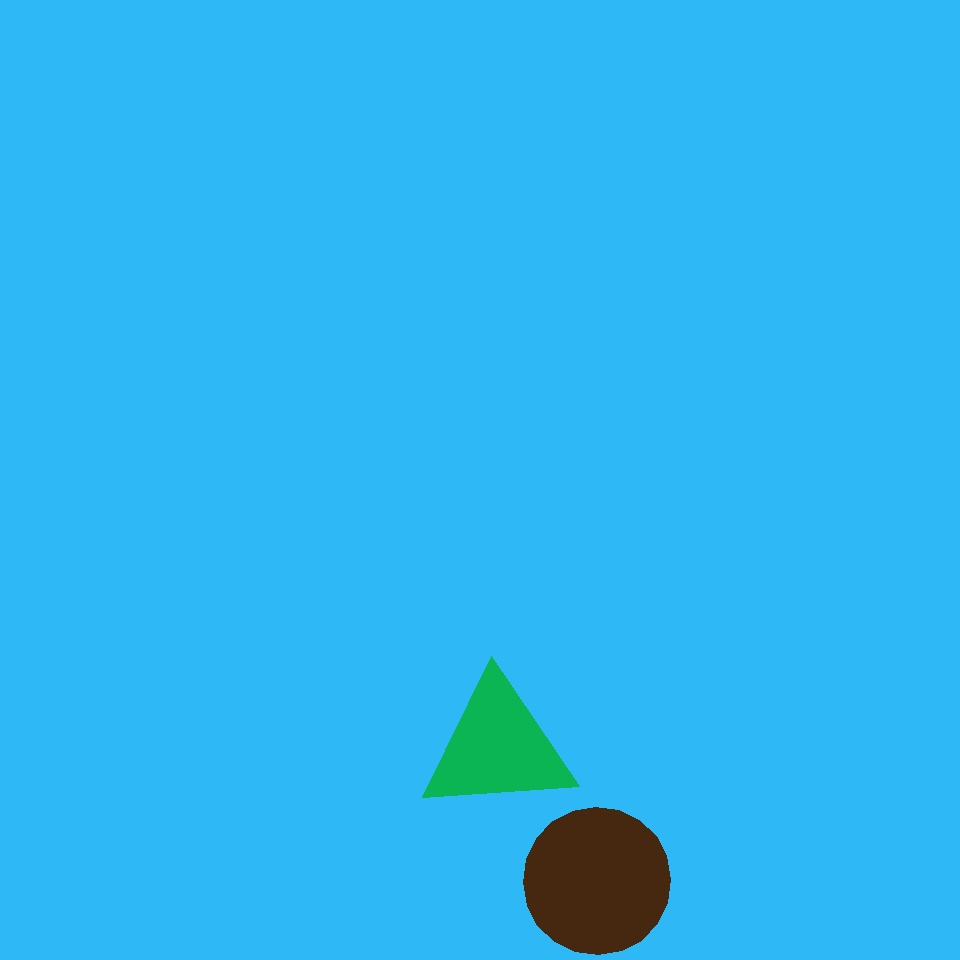circle: (97, 478, 348, 708), (28, 364, 276, 577), (420, 676, 576, 818), (34, 320, 120, 398)
triangle: (164, 101, 473, 410), (524, 808, 670, 954)
